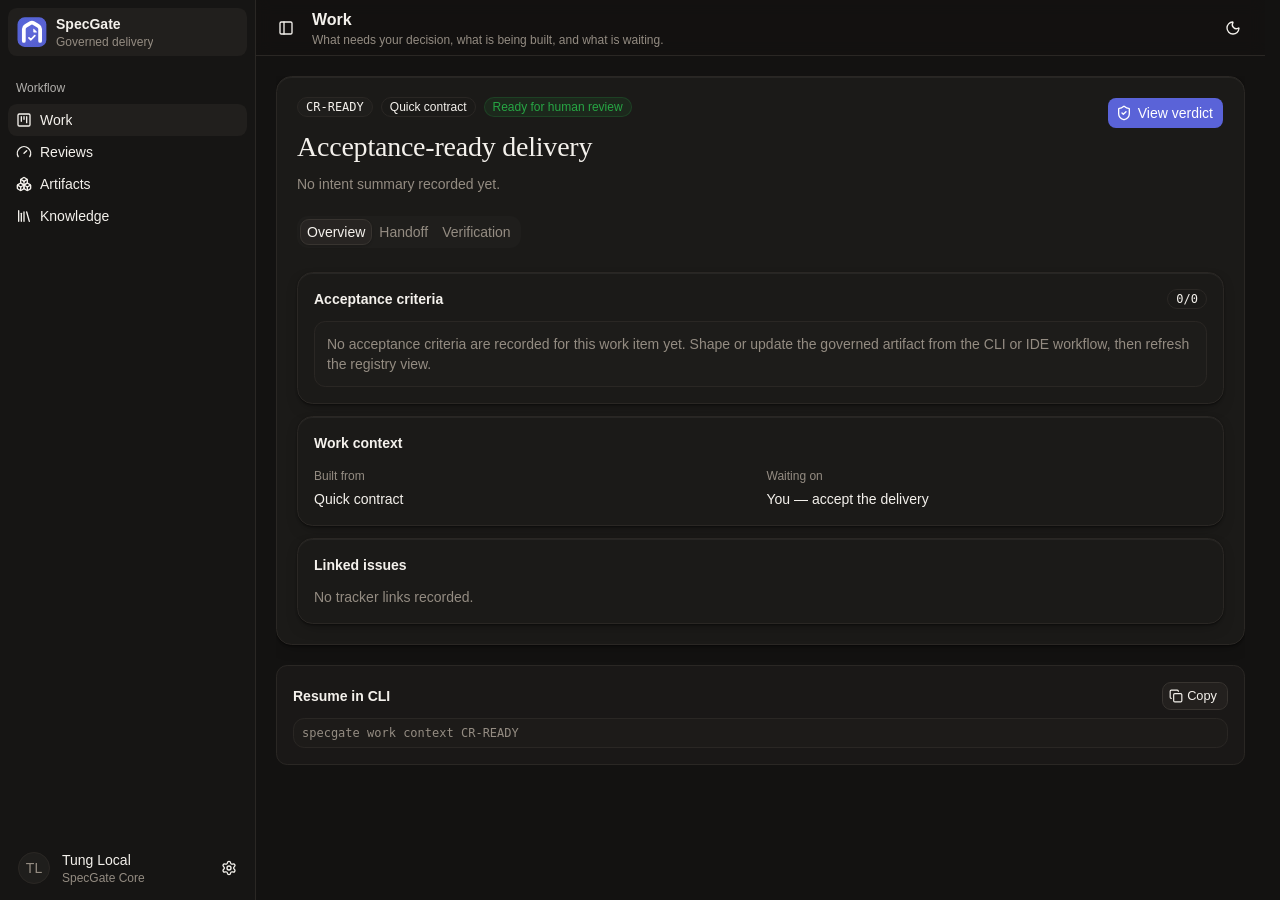
it: SpecGate UI shell: work review › requires useful request-changes feedback and shows backend rejection
The width and height of the screenshot is (1280, 900).
Click the tab "Verification" at [476, 232], box [435,219,518,245]
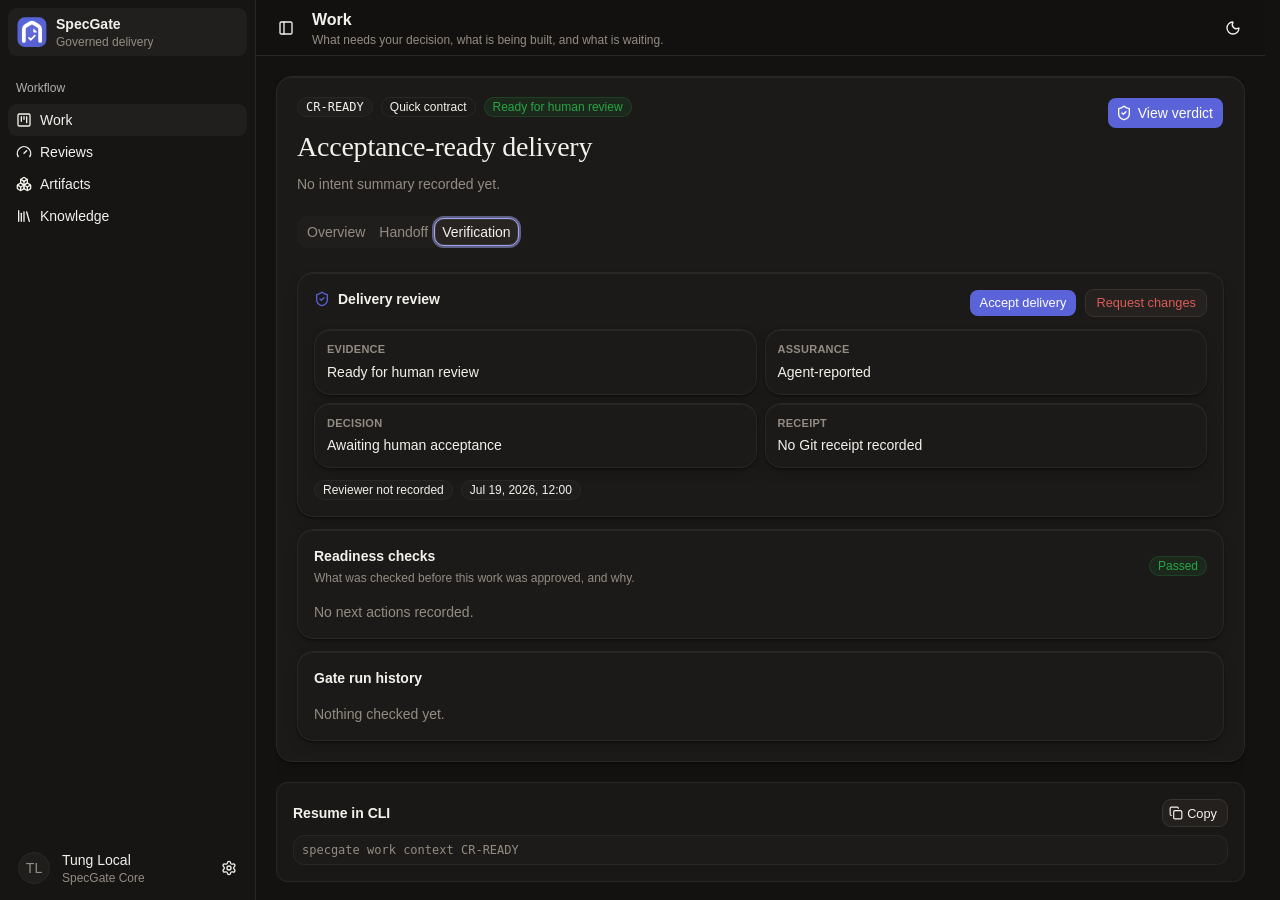
Click the button "Request changes" at [1146, 303], box [1085,289,1207,317]
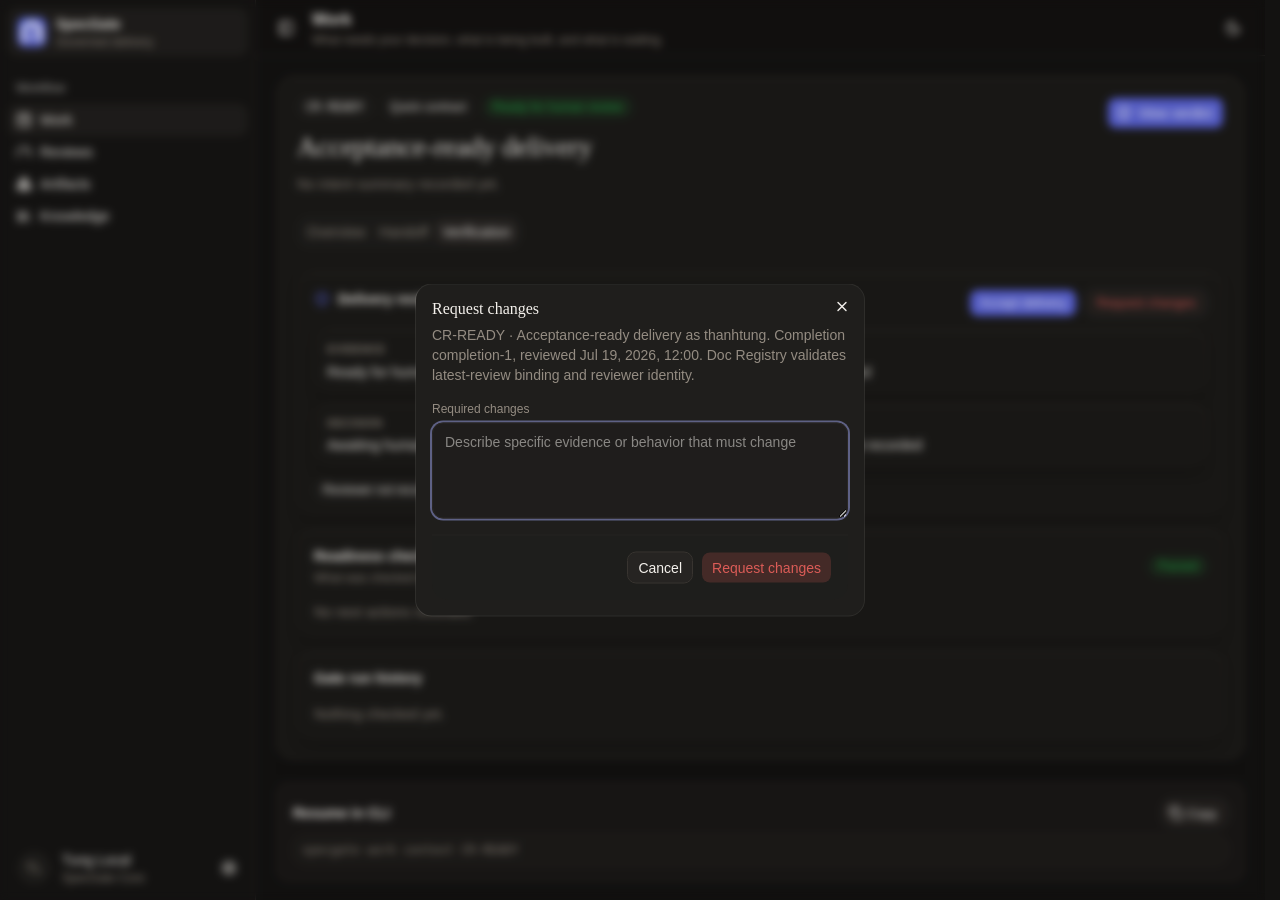
Check: the text "Completion completion-1" is shown, box [432,326,845,362]
Click the button "Request changes" at [766, 568], box [701,552,832,584]
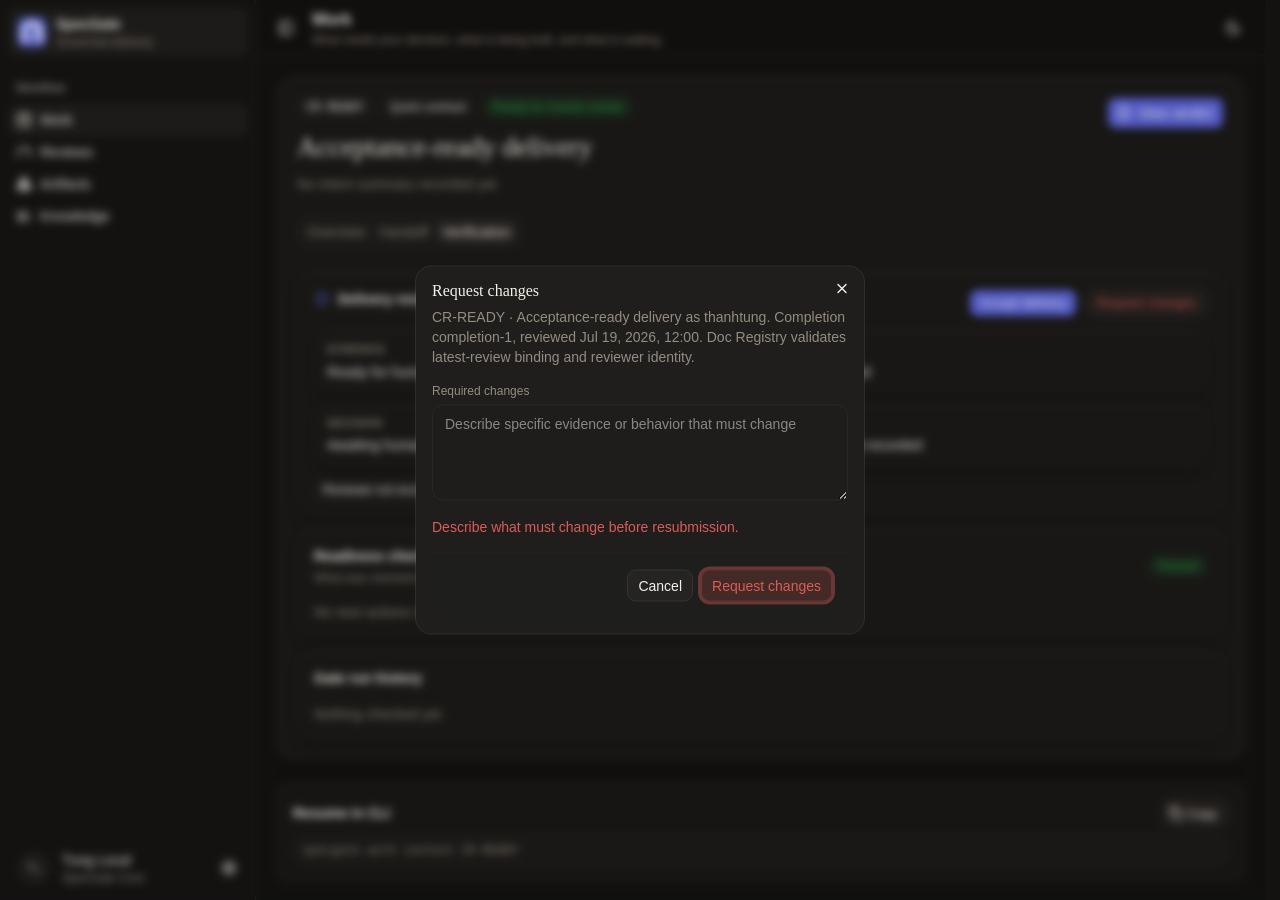
Check: the message reads "Describe what must change before resubmission.", box [432,518,739,534]
Type "Add narrow viewport evidence." into the text box with placeholder "Describe specific evidence or behavior that must change" at [640, 452], box [432,404,848,500]
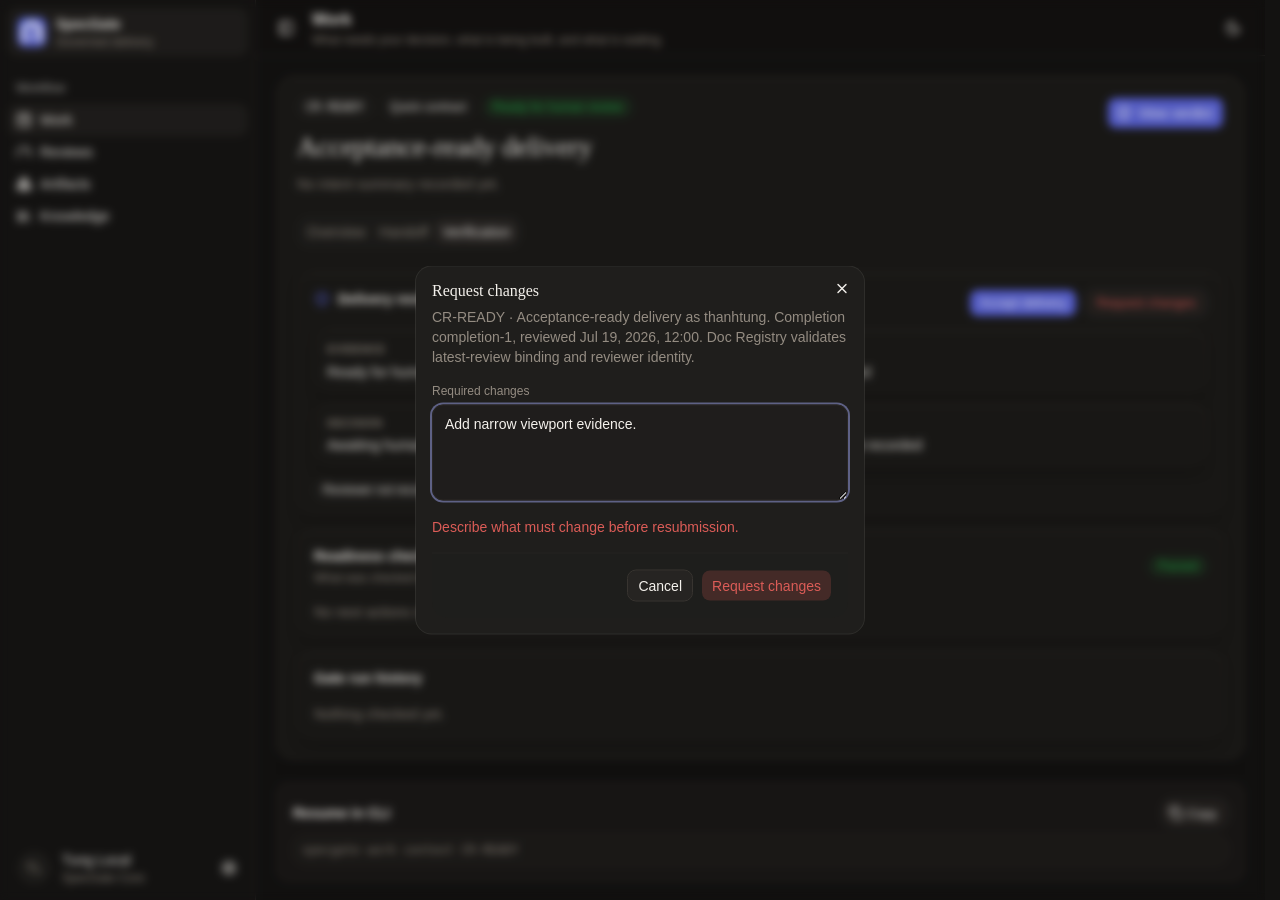
Click the button "Request changes" at [766, 586], box [701,570,832,602]
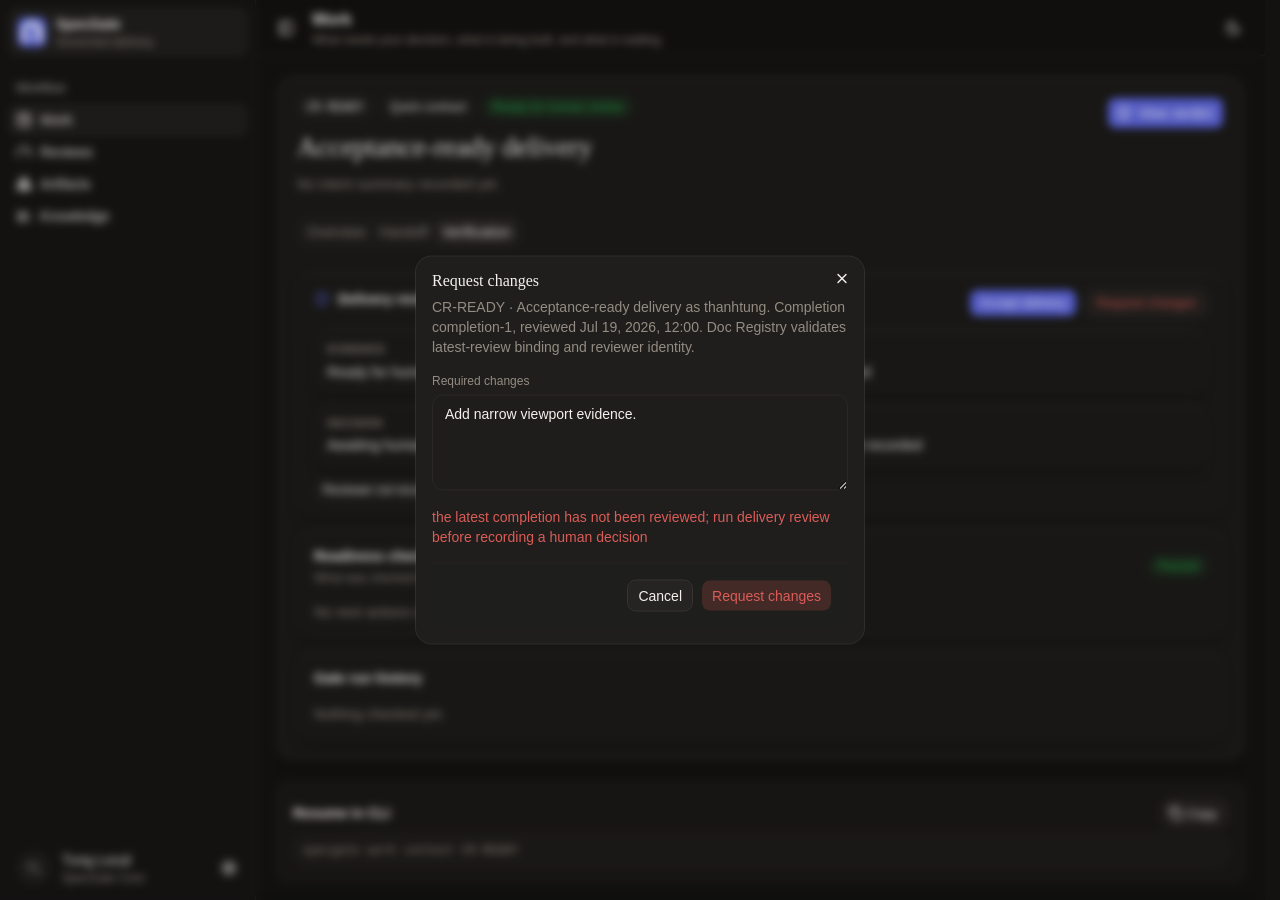
Check: the message shows "the latest completion has not been reviewed", box [432,508,830,544]
